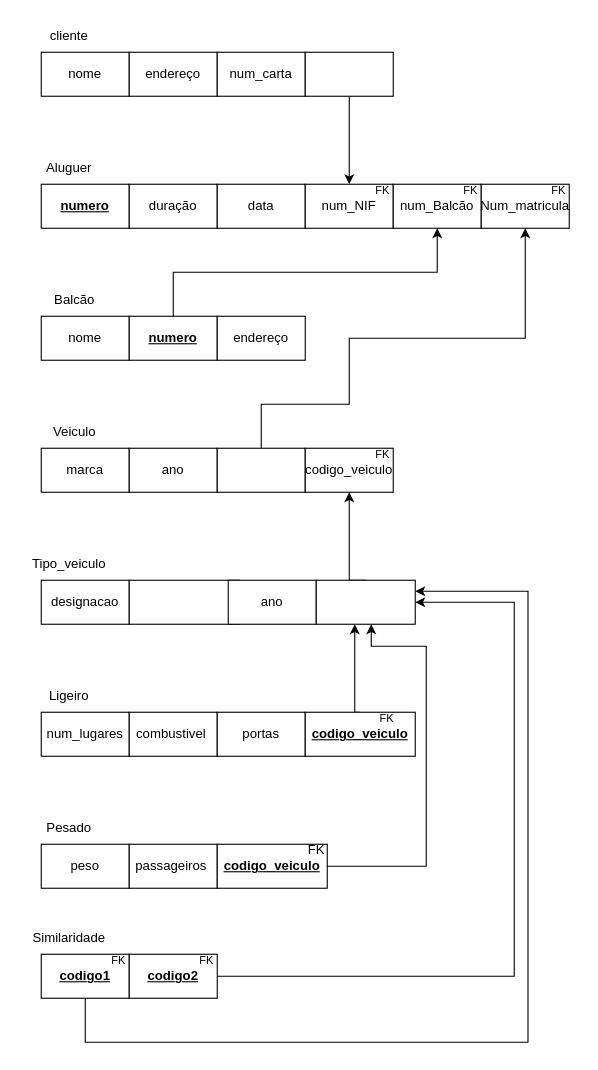
Some shapes in this 598 by 1070 pixel diagram are drawn without their labels. Each missing label, with the centre of its shape:
arcondicionado: pixel 183 601
codigo: pixel 365 601
matricula: pixel 260 469
NIF: pixel 348 73
